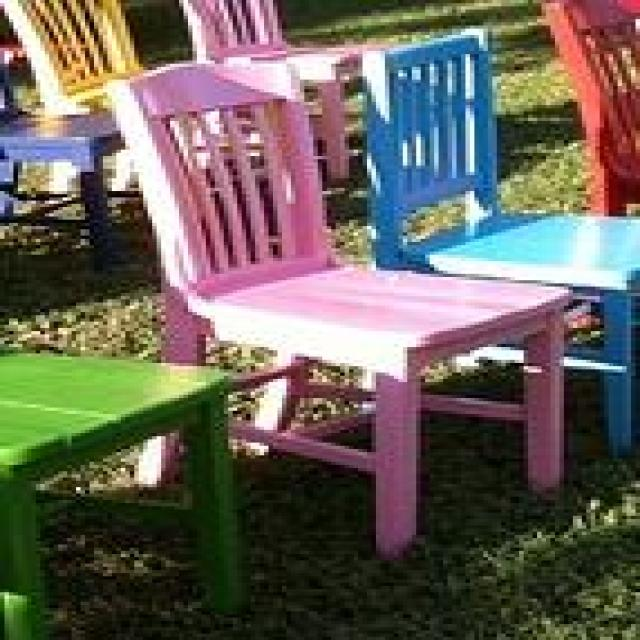chair: (98, 58, 578, 560), (358, 26, 636, 456)
